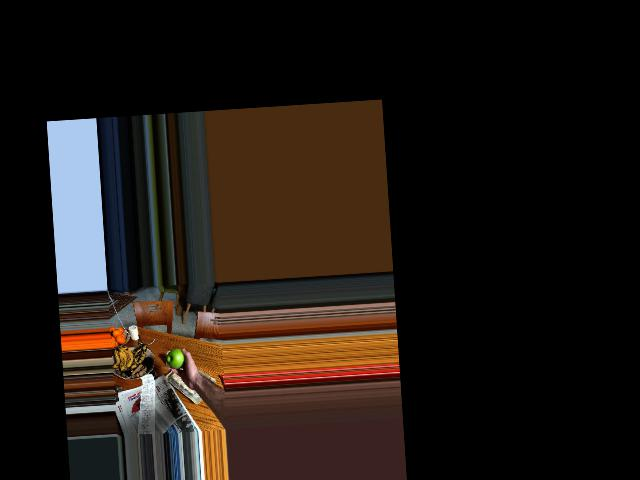apple: (167, 347, 189, 371)
